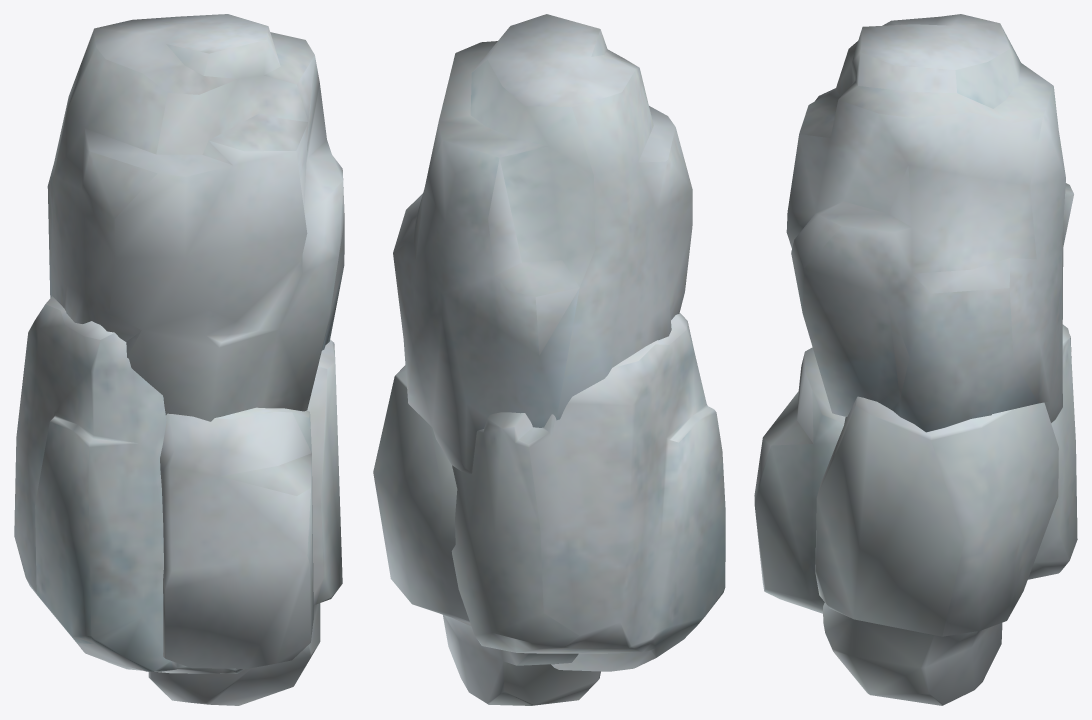
The model's file is P_RockSpire_RockClumpB11.obj.
3 views of the same model, side by side, from view 1: azimuth 30°, elevation 25°; view 2: azimuth 150°, elevation 25°; view 3: azimuth 270°, elevation 25° (orthographic). The views are drawn at different scales.
Bounding box in the file's own units: 13.79 × 29.58 × 13.37.
